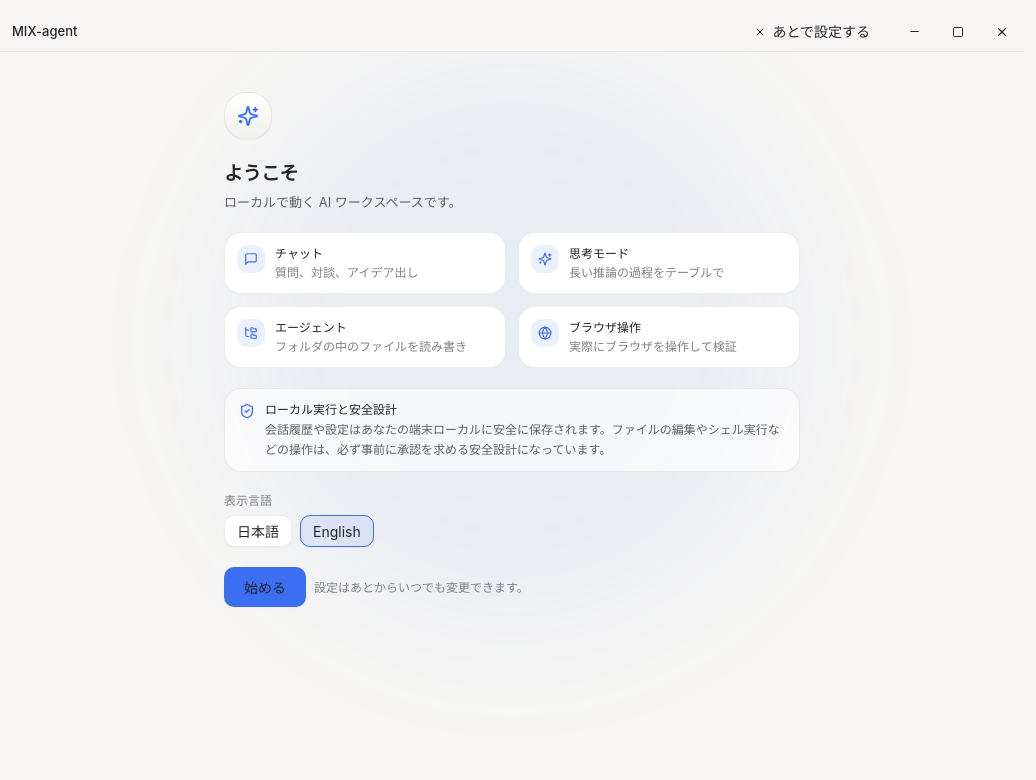
Onboarding › only sweeps the loopback ports when the scan is asked for
Click the button "始める". click: (265, 587)
box: [224, 567, 306, 607]
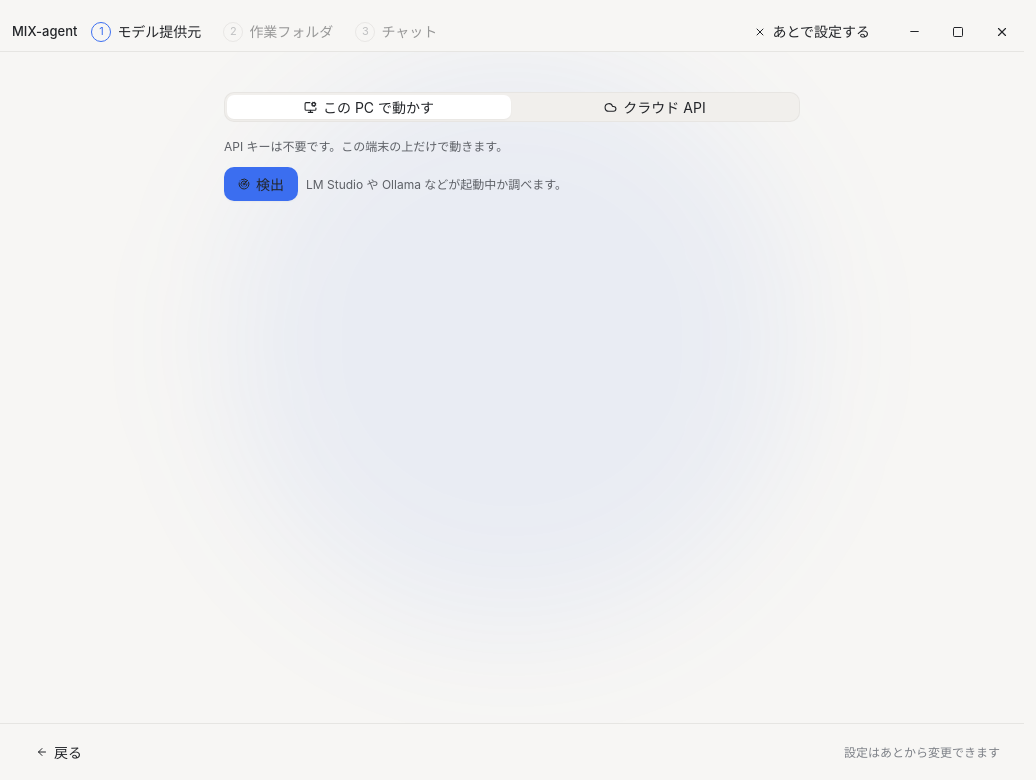
Expected: the radio button with test id "onboarding-provider-tab-local" is shown, [227, 95, 511, 119]
Click the button "検出". click: (261, 184)
box: [224, 167, 298, 201]
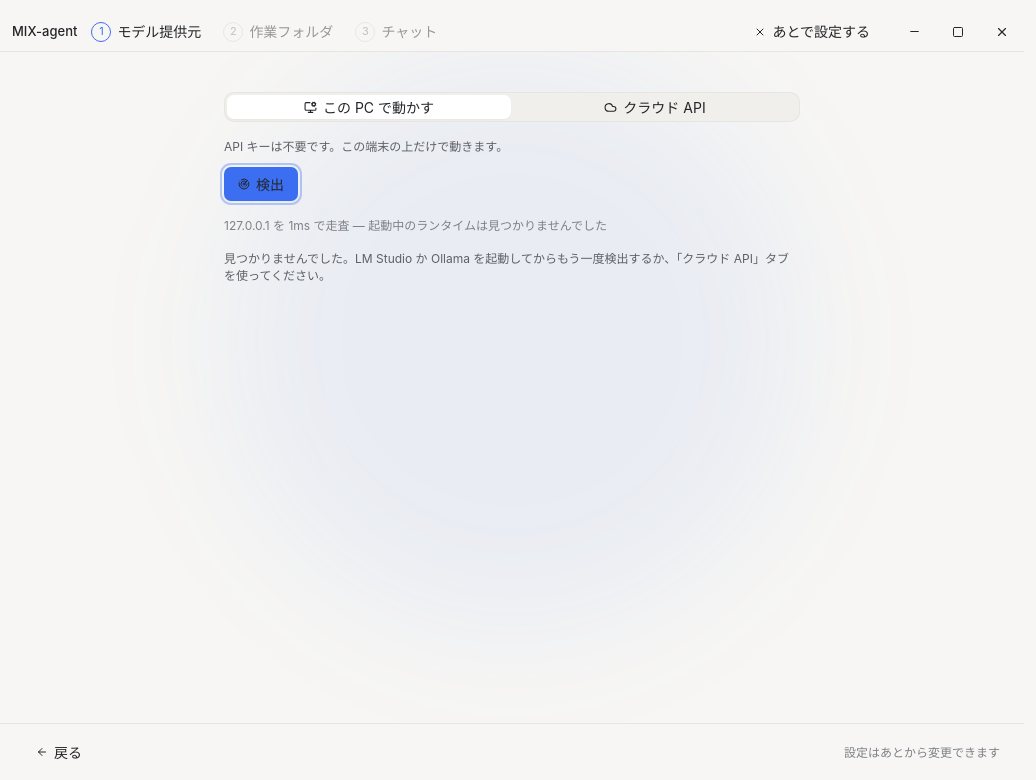
Expected: the text "「クラウド API」タブを使ってください" is shown, [224, 251, 789, 283]
